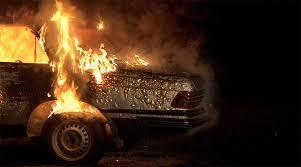fire: (0, 0, 148, 118)
